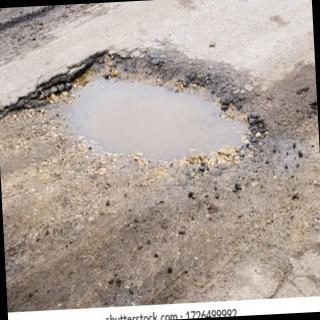pothole: (26, 54, 266, 160)
